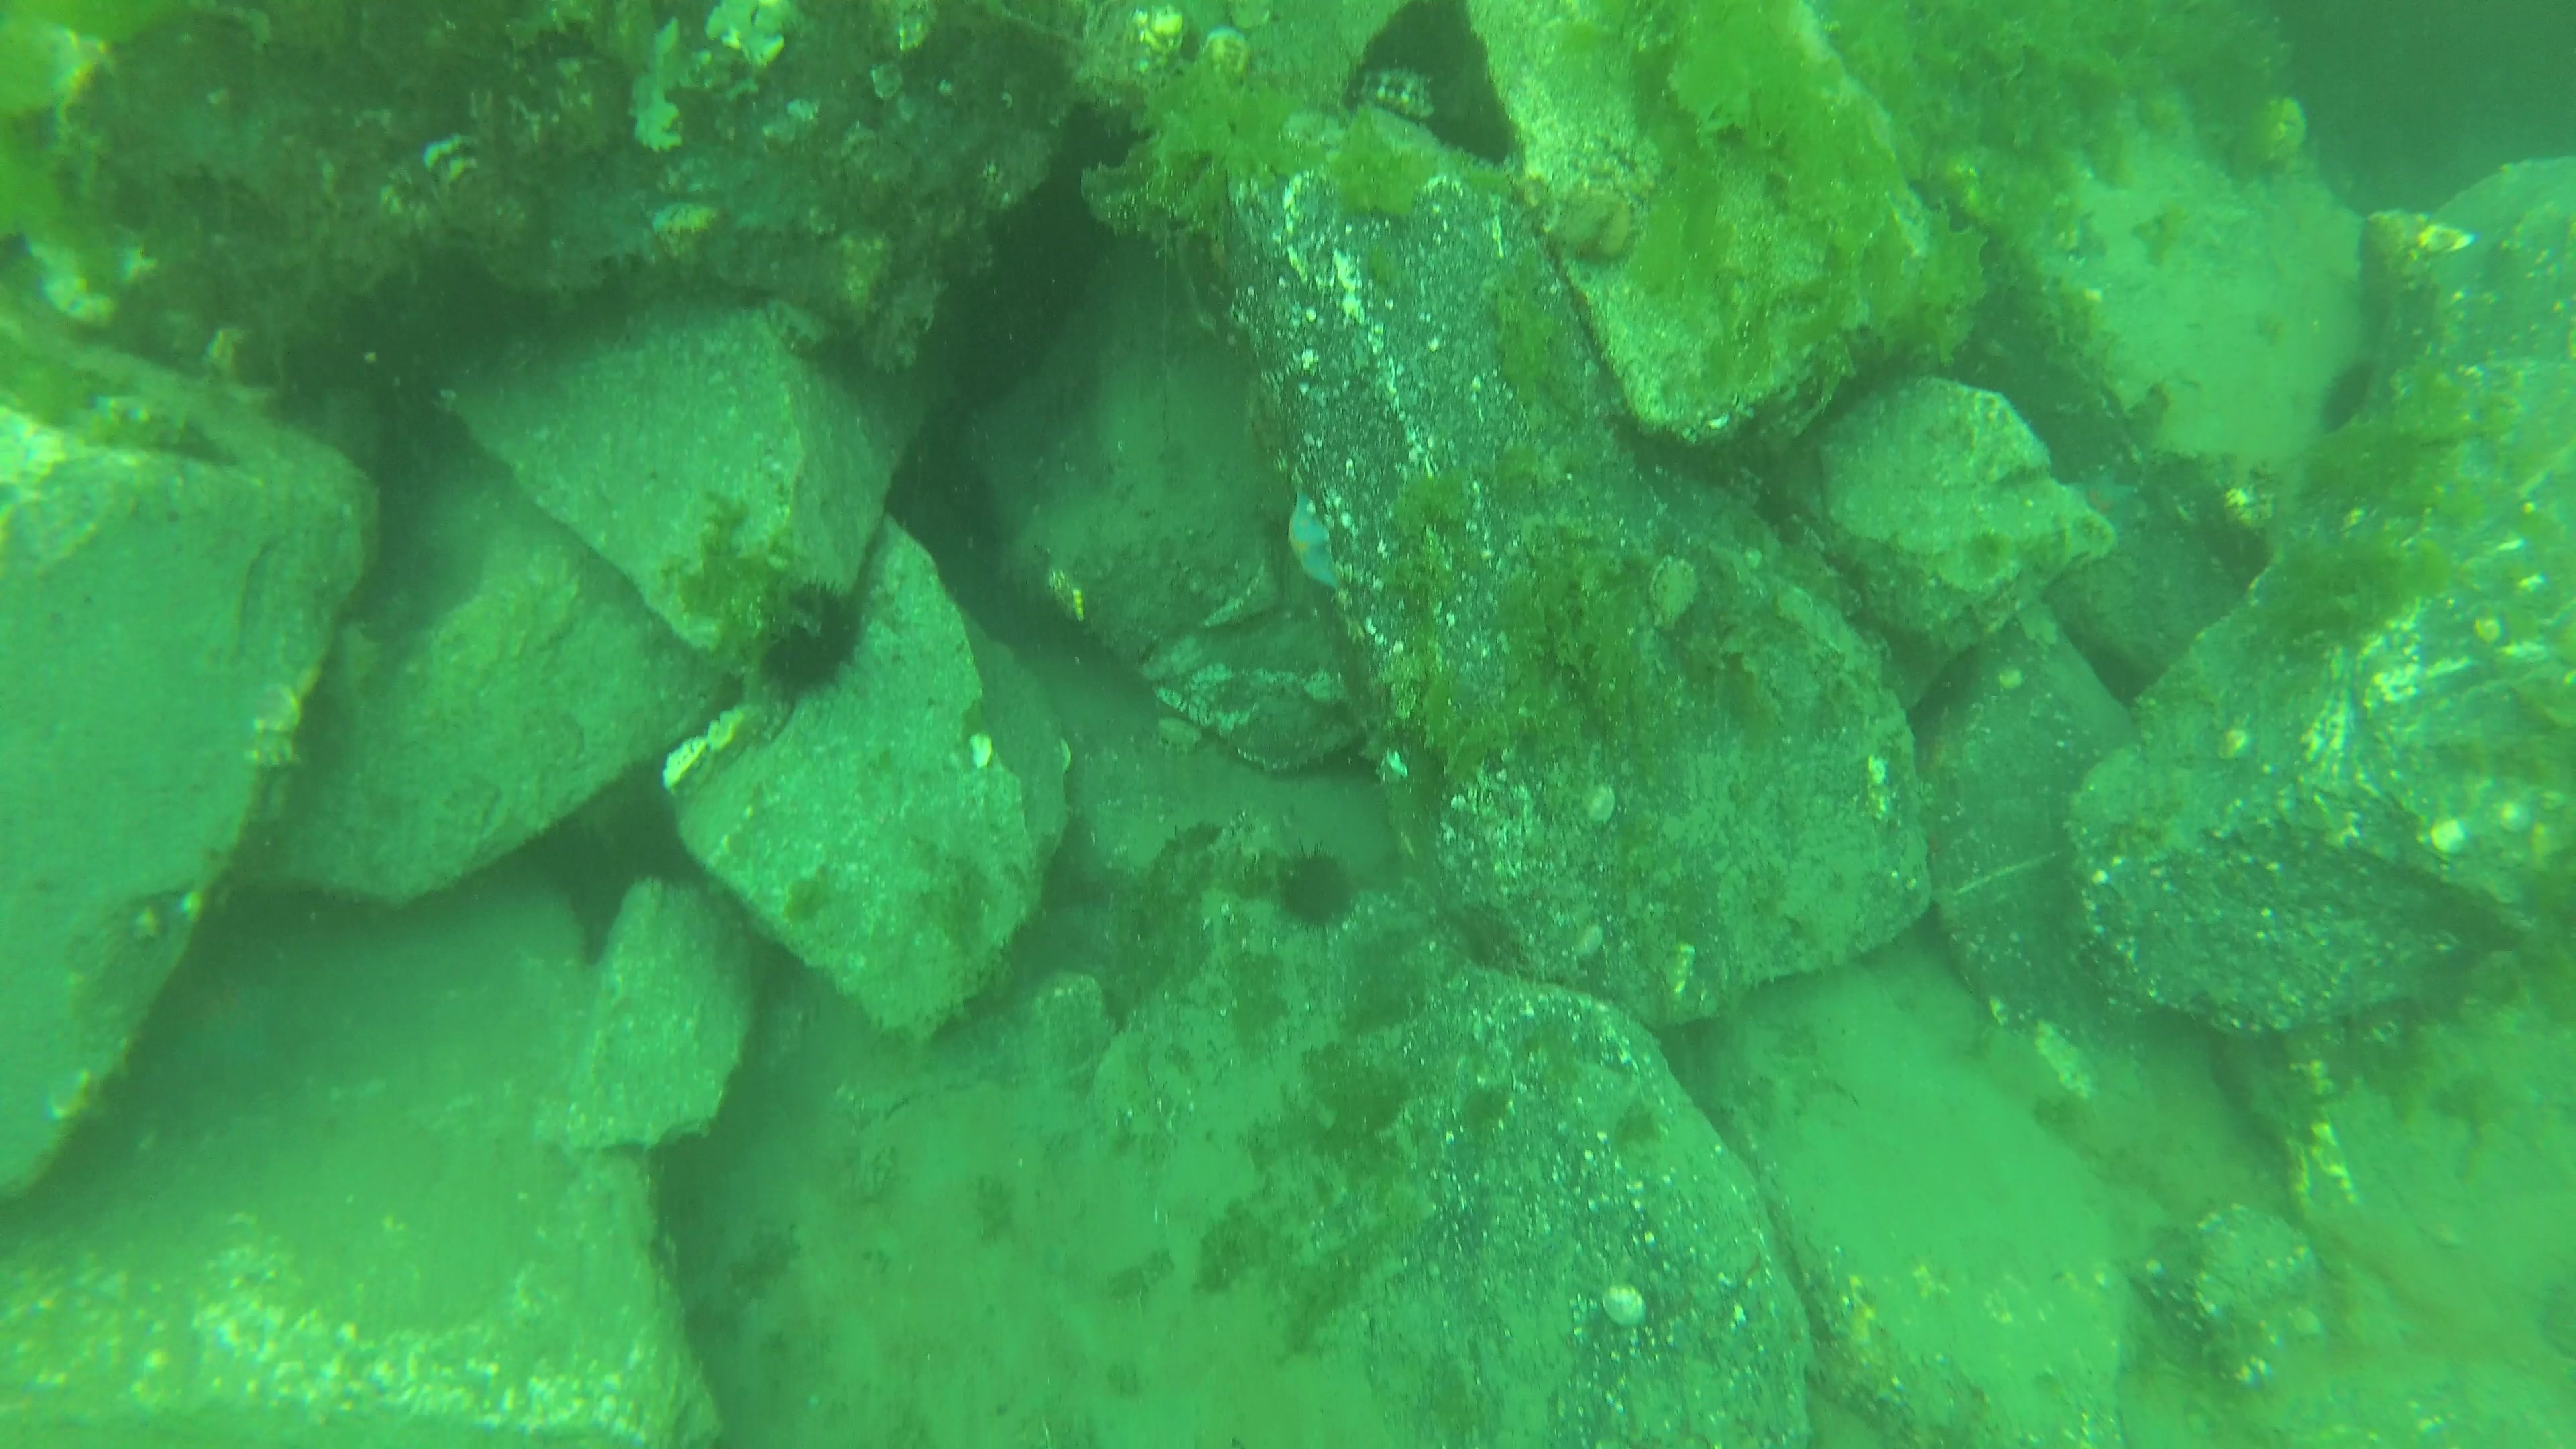echinus: (752, 570, 876, 713), (2323, 352, 2422, 456), (1267, 832, 1364, 934)
starfish: (1279, 474, 1341, 596)
